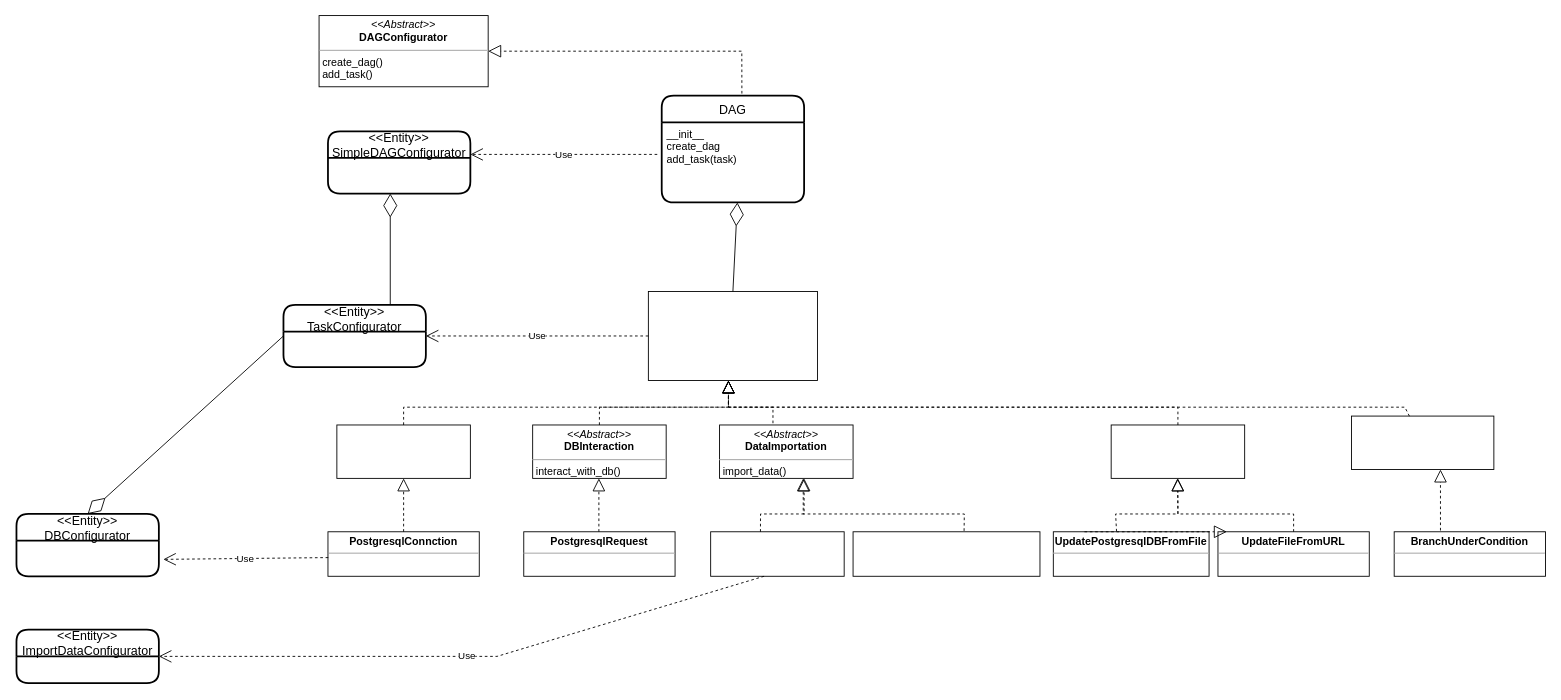
The diagram is 1561 pixels wide and 700 high, and some of its shapes have lost their labels. Here are the shapes that lost their labels. From the top down, the centre of each, then its label:
the point at 732,335: << Abstract >> Task __init__( ) set_upstream() set_downstream()
the point at 403,451: << Abstract >> DBconnection connect_to_db()
the point at 1177,451: << Abstract >> DataCleansing update_data()
the point at 1422,442: << Abstract >> Branch do_branching()
the point at 777,553: GetDataFromURLIntoFile
the point at 946,553: InsertDataFromFileIntoPostgresqlDB
